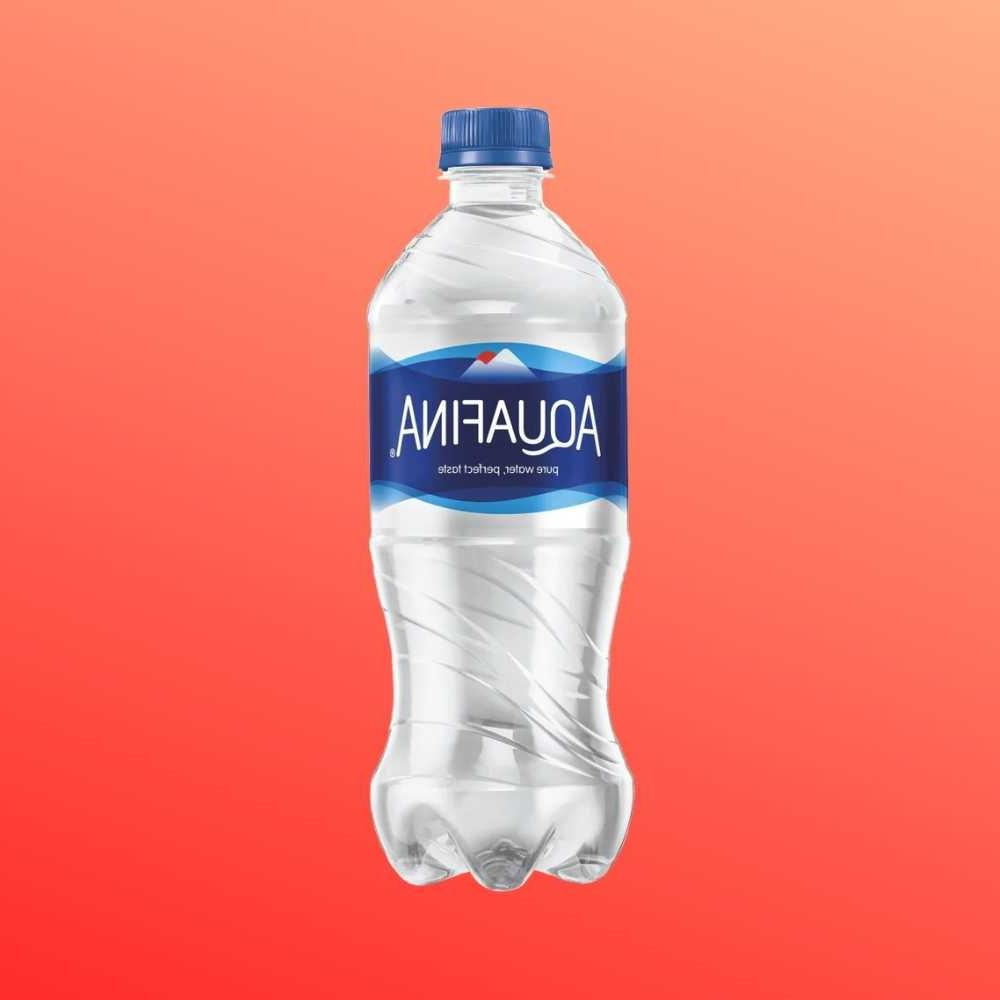bottle: (356, 109, 648, 900)
